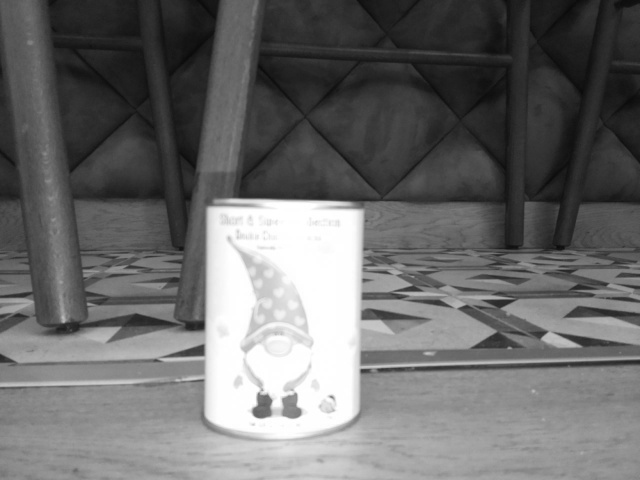gnome: (219, 231, 342, 423)
